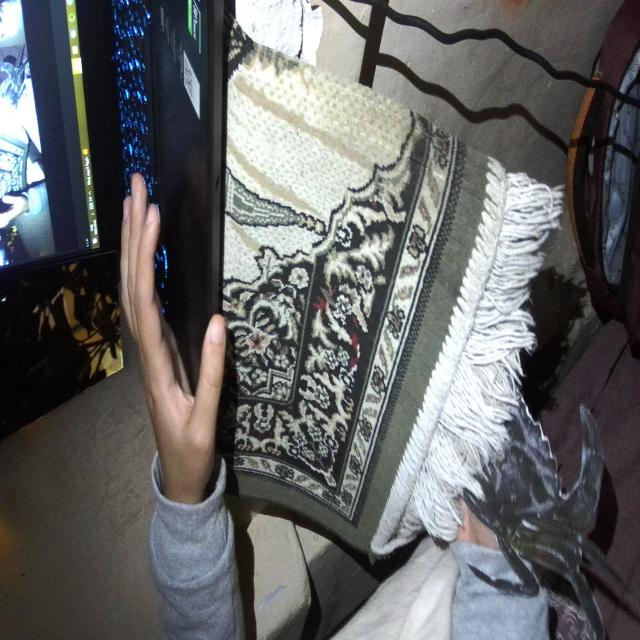European_Green_Crab: (454, 385, 627, 610)
